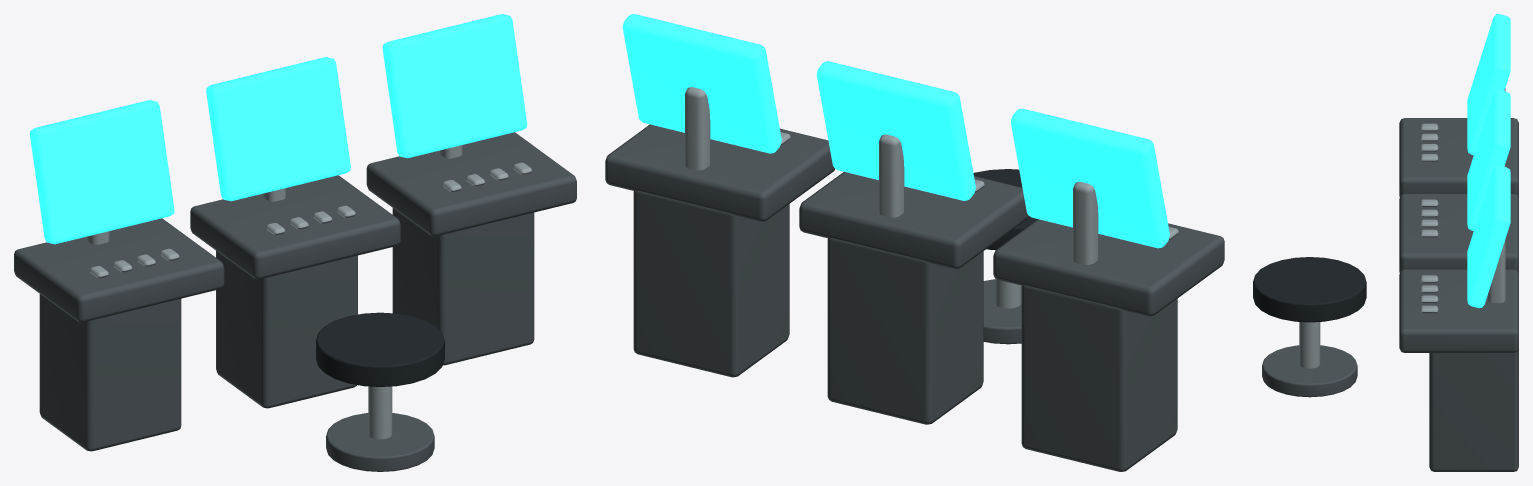
File: memory-relay.glb
3 renders of one model, left to right at view 1: azimuth 30°, elevation 25°; view 2: azimuth 150°, elevation 25°; view 3: azimuth 270°, elevation 25°, orthographic. The views are drawn at different scales.
Parts seen in each view (by area): view 1: memory-relay; view 2: memory-relay; view 3: memory-relay.
Part boxes in pixels (left/top/right/bottom): memory-relay: left=14, top=14, right=576, bottom=471; memory-relay: left=605, top=14, right=1224, bottom=471; memory-relay: left=1253, top=14, right=1518, bottom=471.
Size of the model in its own units: 3.4 by 1.94 by 1.78.
